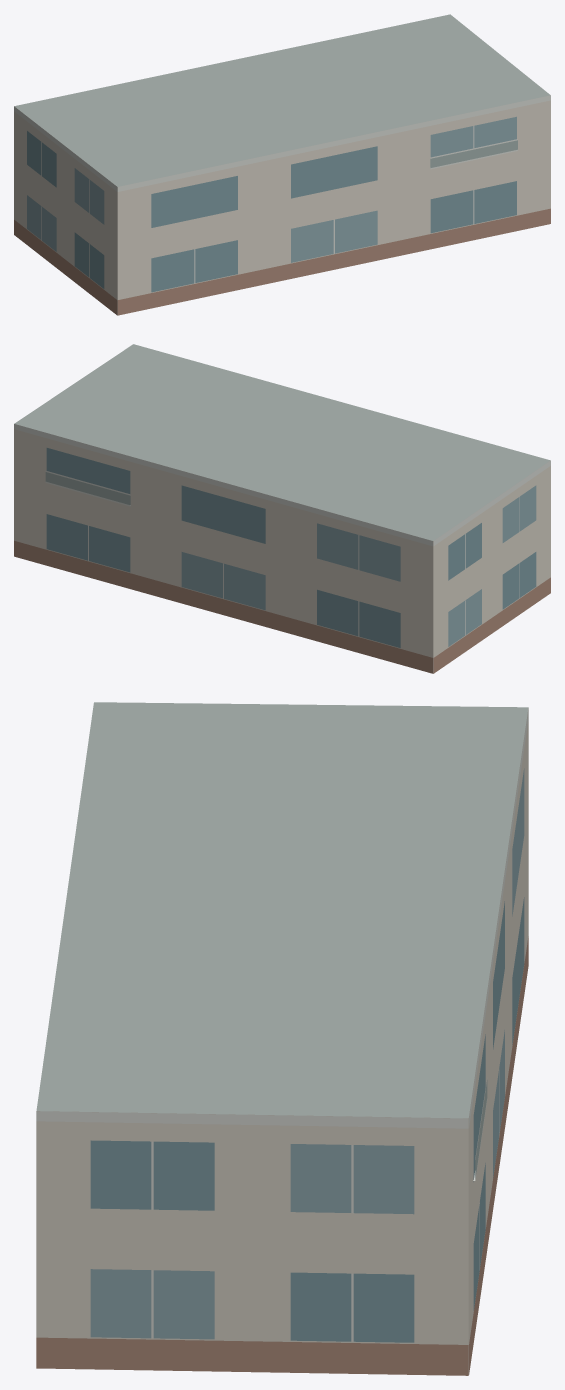
The model's file is survey-upis-32607818.glb.
3 renders of one model, top to bottom at view 1: azimuth 30°, elevation 25°; view 2: azimuth 150°, elevation 25°; view 3: azimuth 270°, elevation 25°, orthographic. The views are drawn at different scales.
Visible parts, largest first — view 1: survey-upis-32607818.tmp; view 2: survey-upis-32607818.tmp; view 3: survey-upis-32607818.tmp.
Part boxes in pixels (x1=…): survey-upis-32607818.tmp: x1=14, y1=14, x2=550, y2=315; survey-upis-32607818.tmp: x1=14, y1=344, x2=550, y2=673; survey-upis-32607818.tmp: x1=36, y1=702, x2=528, y2=1375.
Bounding box in the file's own units: 21.18 × 6.1 × 10.59.
